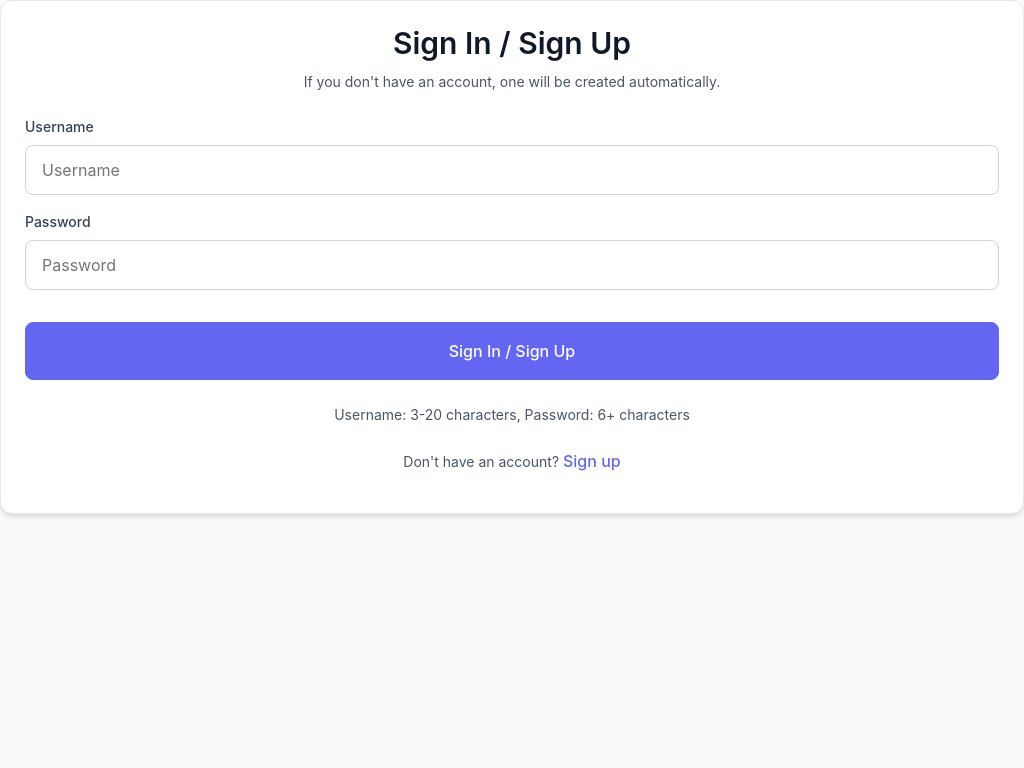
Test: LoginForm › Form Validation › should show validation errors for empty fields
This screenshot has width=1024, height=768.
What coordinates should you click on to do the following:
click the button "Sign In / Sign Up"
I would click on:
 (512, 350)
Its box is [25,322,999,380].
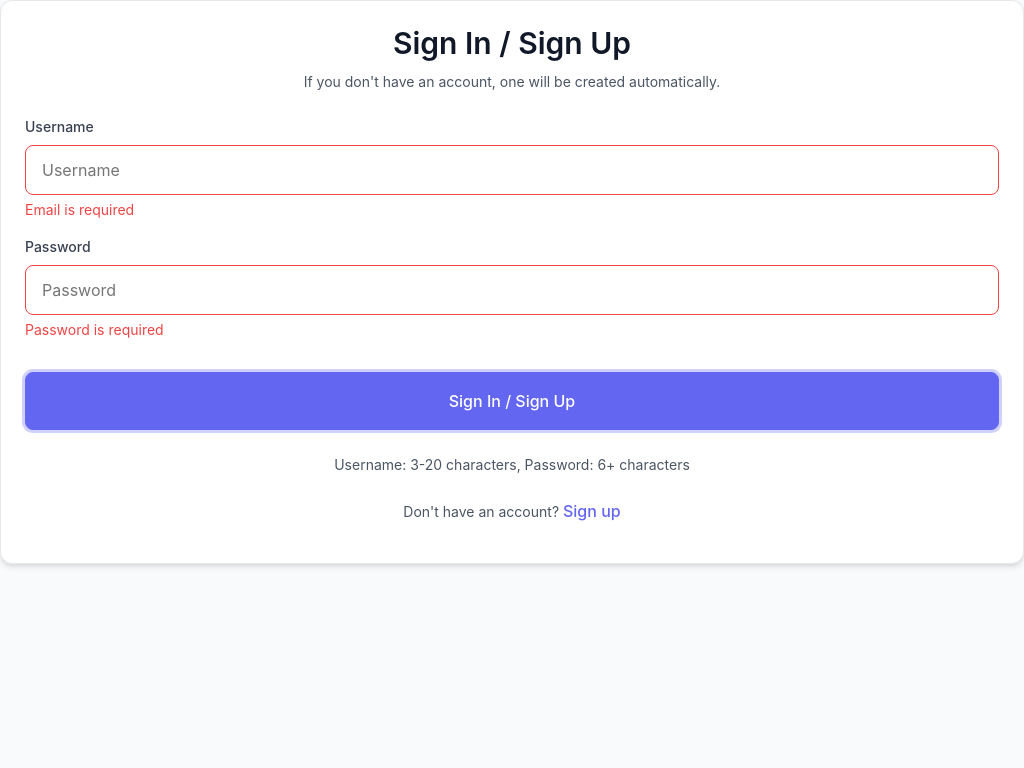
Check: the text "Email is required" is shown, box [25,200,134,218]
Check: the text "Password is required" is shown, box [25,320,164,338]
